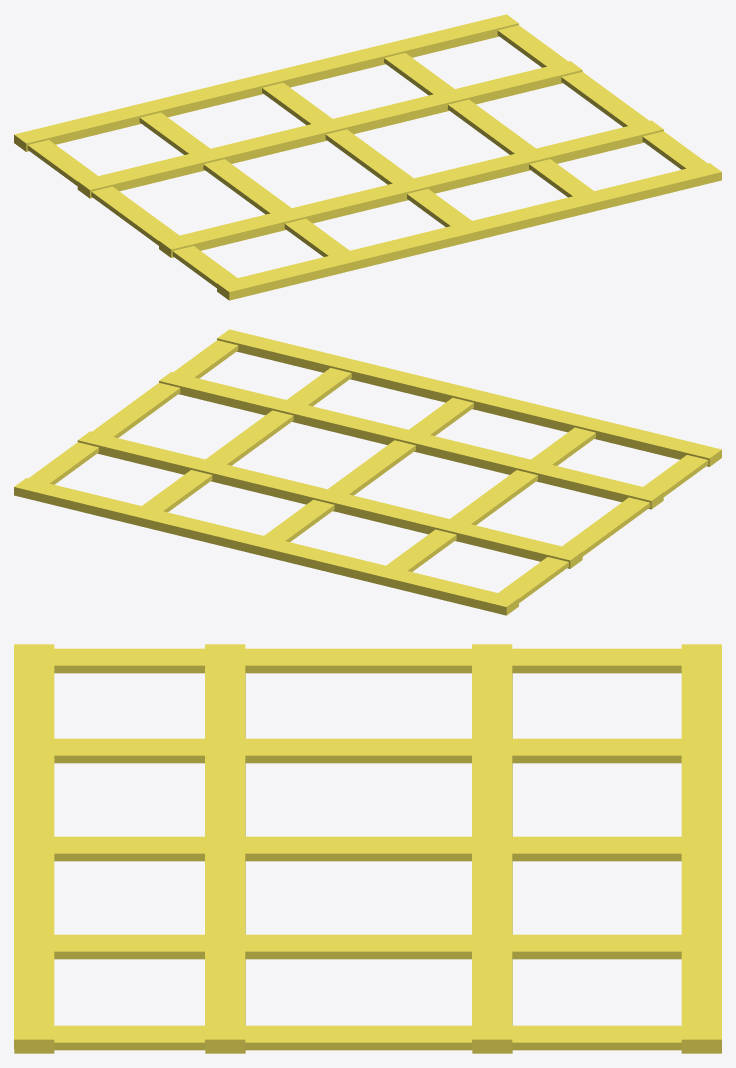
File: TelaP.fbx
3 renders of one model, top to bottom at view 1: azimuth 30°, elevation 25°; view 2: azimuth 150°, elevation 25°; view 3: azimuth 270°, elevation 25°, orthographic. The views are drawn at different scales.
Parts seen in each view (by area): view 1: RedeP.009, RedeP.007, RedeP.006, RedeP.008, RedeP.001, RedeP.002, RedeP.005, RedeP.003, RedeP.004; view 2: RedeP.006, RedeP.007, RedeP.009, RedeP.008, RedeP.001, RedeP.004, RedeP.005, RedeP.003, RedeP.002; view 3: RedeP.006, RedeP.007, RedeP.008, RedeP.009, RedeP.005, RedeP.001, RedeP.002, RedeP.003, RedeP.004.
Part boxes in pixels (<box>): RedeP.009: <box>217,163,721,300</box>; RedeP.007: <box>77,61,582,198</box>; RedeP.006: <box>14,14,518,151</box>; RedeP.008: <box>159,120,663,257</box>; RedeP.001: <box>27,140,237,287</box>; RedeP.002: <box>139,112,349,256</box>; RedeP.005: <box>497,25,707,169</box>; RedeP.003: <box>262,83,471,227</box>; RedeP.004: <box>384,53,593,197</box>; RedeP.006: <box>14,478,518,615</box>; RedeP.007: <box>77,431,582,568</box>; RedeP.009: <box>217,329,721,466</box>; RedeP.008: <box>159,372,663,509</box>; RedeP.001: <box>499,455,708,602</box>; RedeP.004: <box>142,368,351,512</box>; RedeP.005: <box>28,340,238,484</box>; RedeP.003: <box>264,397,473,541</box>; RedeP.002: <box>386,427,595,571</box>; RedeP.006: <box>681,644,721,1053</box>; RedeP.007: <box>472,644,512,1053</box>; RedeP.008: <box>205,644,245,1053</box>; RedeP.009: <box>14,644,54,1053</box>; RedeP.005: <box>54,1025,681,1050</box>; RedeP.001: <box>54,648,681,673</box>; RedeP.002: <box>54,738,681,763</box>; RedeP.003: <box>54,836,681,861</box>; RedeP.004: <box>54,934,681,959</box>.
Bounding box in the file's own units: 20.16 × 0.3338 × 15.27.
